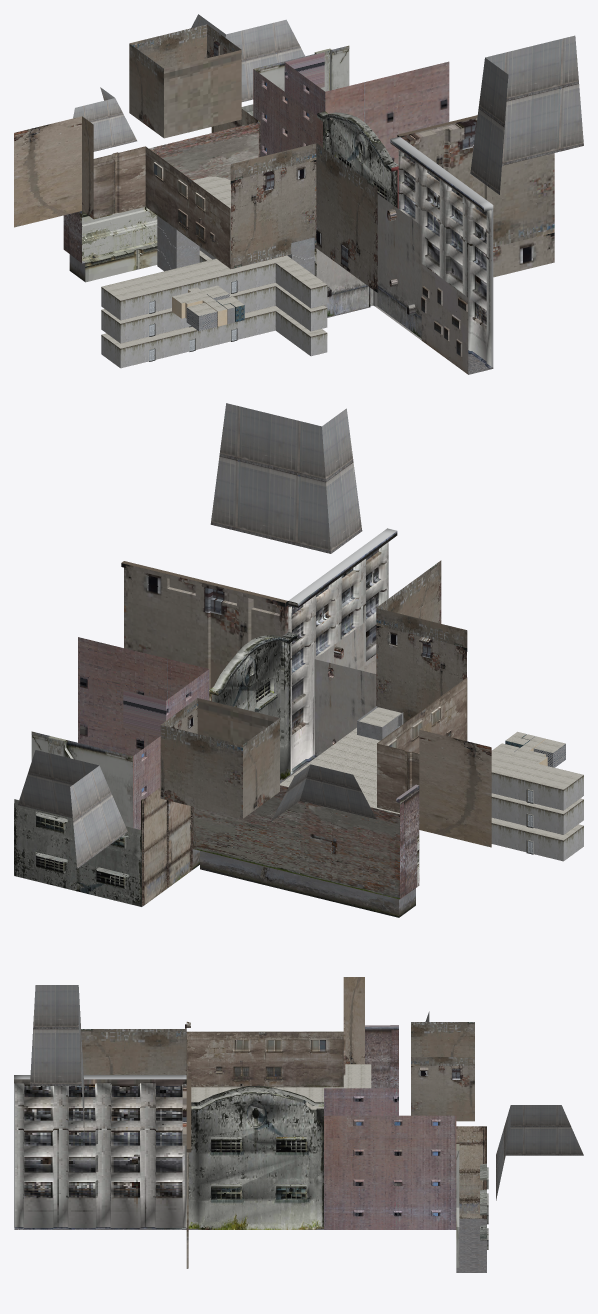
Rendered from MAP A.fbx.
3 views of the same model, one above another, from view 1: azimuth 30°, elevation 25°; view 2: azimuth 150°, elevation 25°; view 3: azimuth 270°, elevation 25° (orthographic). The views are drawn at different scales.
Visible parts, largest first — view 1: ESCENARIO 1; view 2: ESCENARIO 1; view 3: ESCENARIO 1.
Boxes of the visible parts, left/top/right/bottom form: ESCENARIO 1: left=14, top=14, right=583, bottom=374; ESCENARIO 1: left=14, top=403, right=583, bottom=917; ESCENARIO 1: left=14, top=977, right=583, bottom=1272.
Size of the model in its own units: 9281 by 5733 by 11204.
31 materials, 30 textured.
